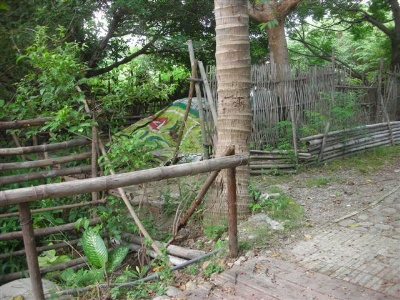plastic_bag: (119, 94, 203, 165)
